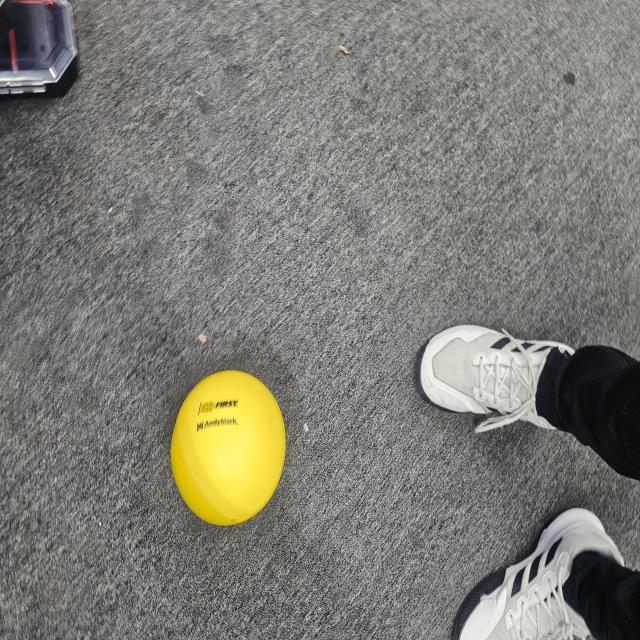Fuel: (165, 360, 298, 530)
